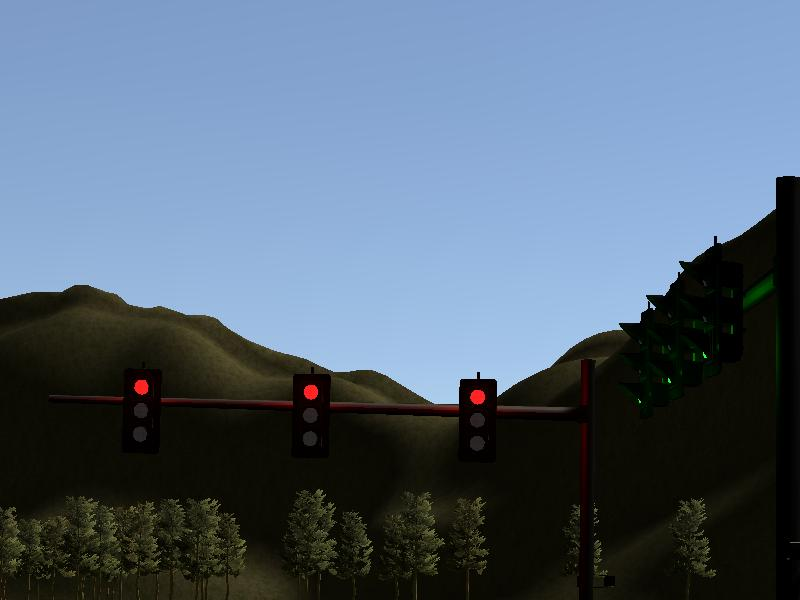Red: (292, 375, 328, 457), (459, 379, 494, 458), (126, 369, 154, 450)
